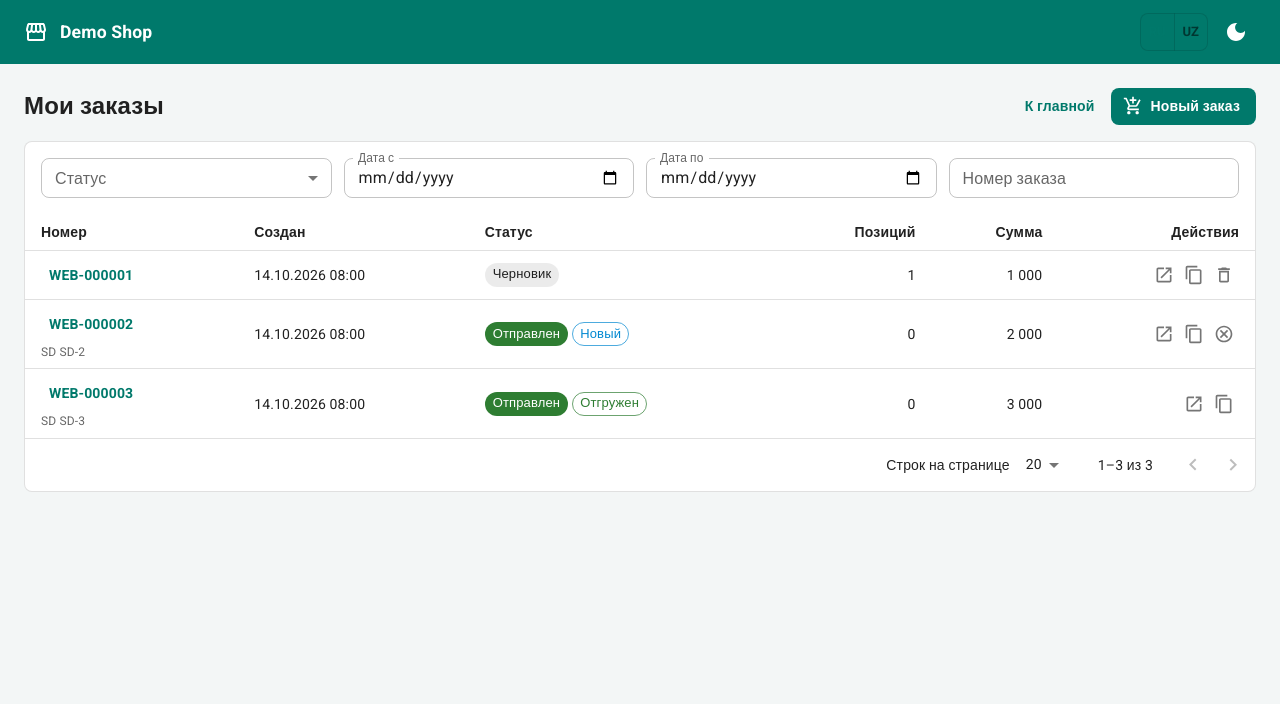
Test: shop orders list › repeat creates a copy and opens it
Click the button named "Повторить": {"x": 1194, "y": 334} left=1179, top=319, right=1209, bottom=349
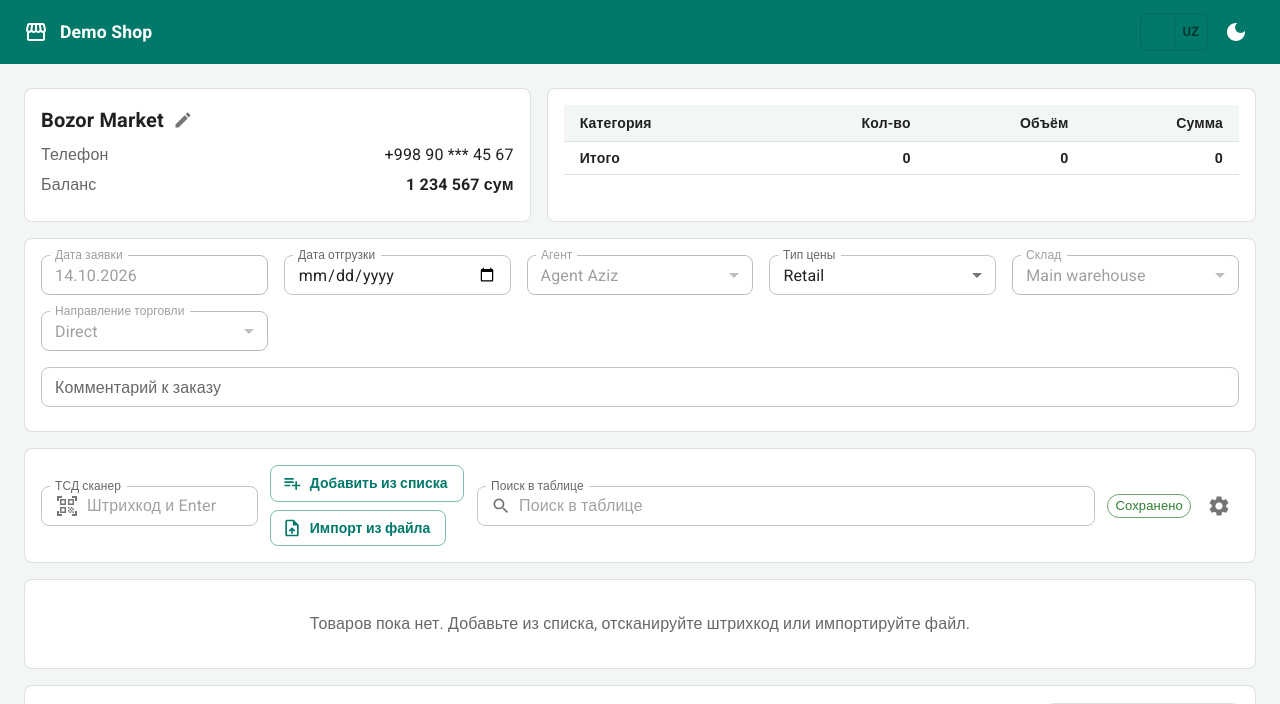
Now the field with test id "scanner-input" is shown, box left=87, top=486, right=258, bottom=526
